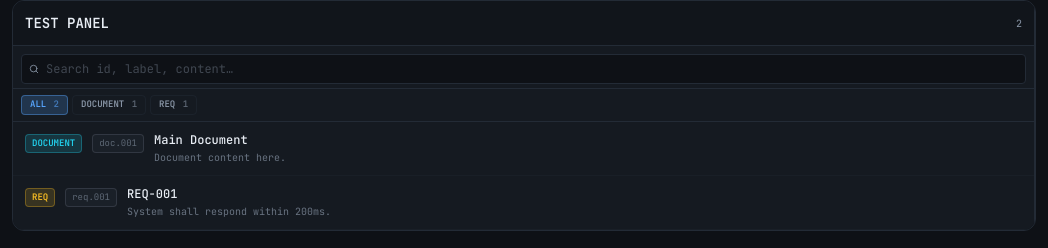
Test case: NodeTablePanel — TypeChips filter › clicking ALL chip clears the type filter
Click the button "REQ 1". click: (174, 105)
box: [150,95,197,114]
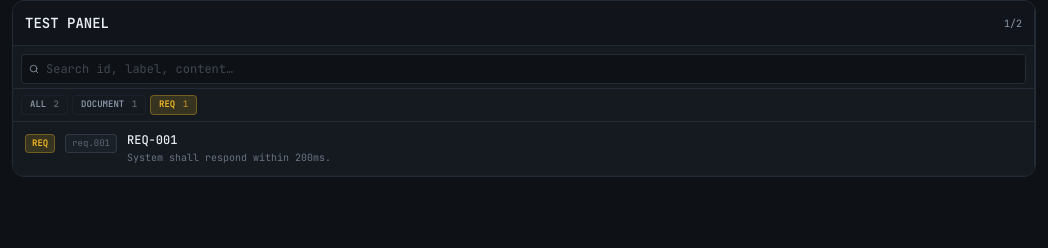
Expected: the button "Main Document" is gone
Click the button "ALL 2". click: (44, 105)
box: [21,95,68,114]
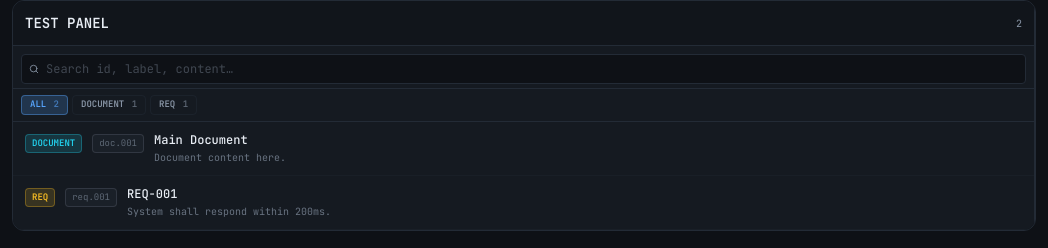
Expected: the text "Main Document" is shown, [154,132,248,148]
